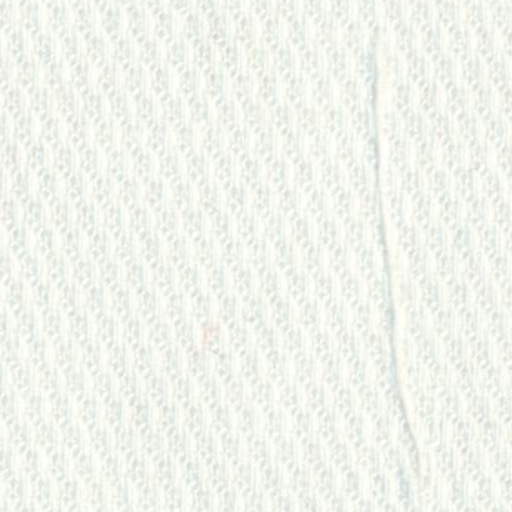DuanSha: (352, 14, 444, 484)
